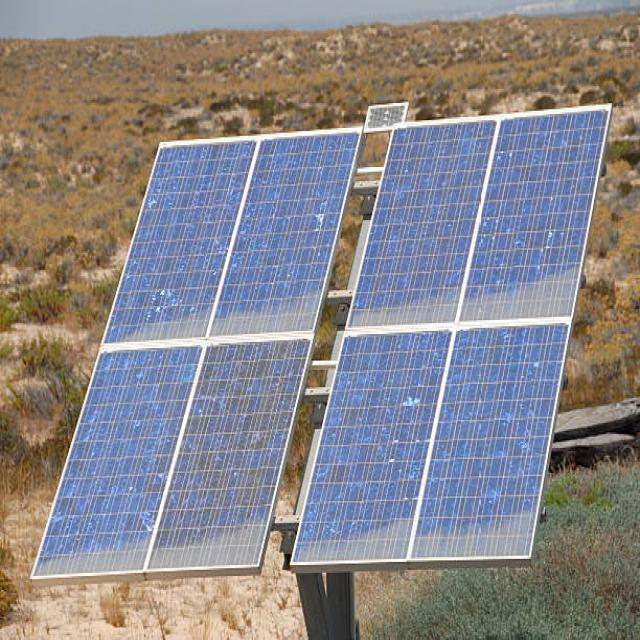faulty: (31, 135, 361, 580), (292, 107, 613, 564)
